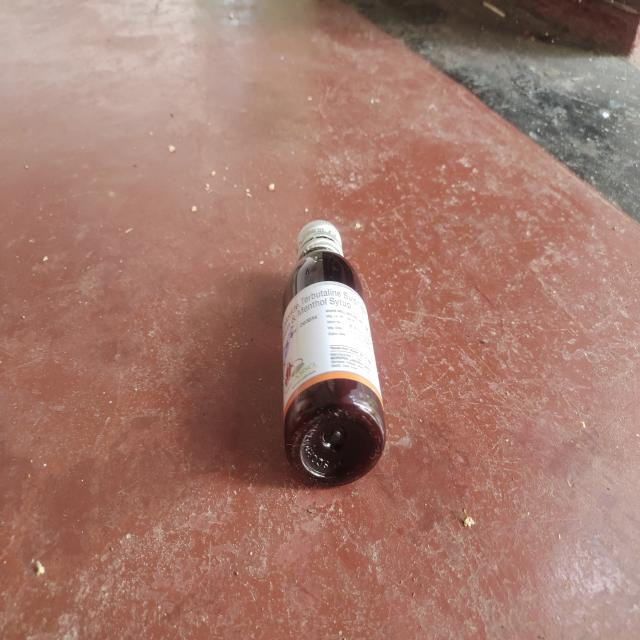plastic: (279, 219, 397, 490)
